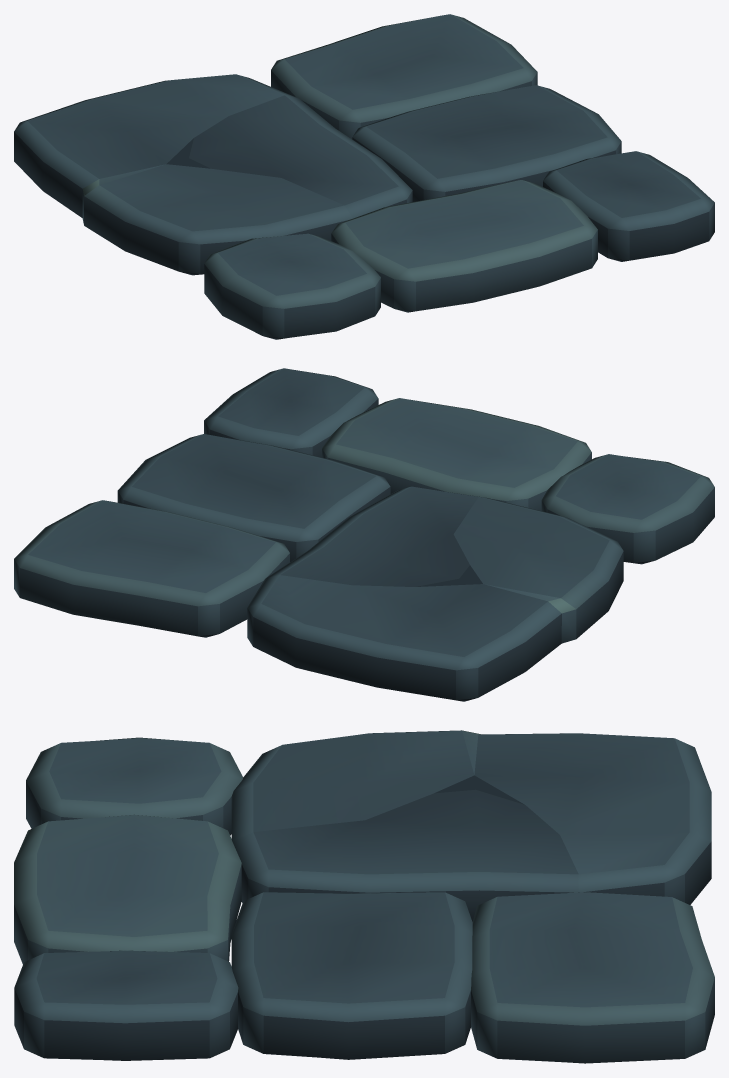
Rendered from stone_path_3_LOD_setup.fbx.
3 views of the same model, one above another, from view 1: azimuth 30°, elevation 25°; view 2: azimuth 150°, elevation 25°; view 3: azimuth 270°, elevation 25° (orthographic). The views are drawn at different scales.
Parts seen in each view (by area): view 1: stone_path_3_LOD0; view 2: stone_path_3_LOD0; view 3: stone_path_3_LOD0.
Boxes of the visible parts, x1,y1,x2,y2 form: stone_path_3_LOD0: (14,14,714,339); stone_path_3_LOD0: (14,368,714,701); stone_path_3_LOD0: (14,730,714,1063).
Size of what is drawn, in the model's own units: 207 by 18.28 by 208.
